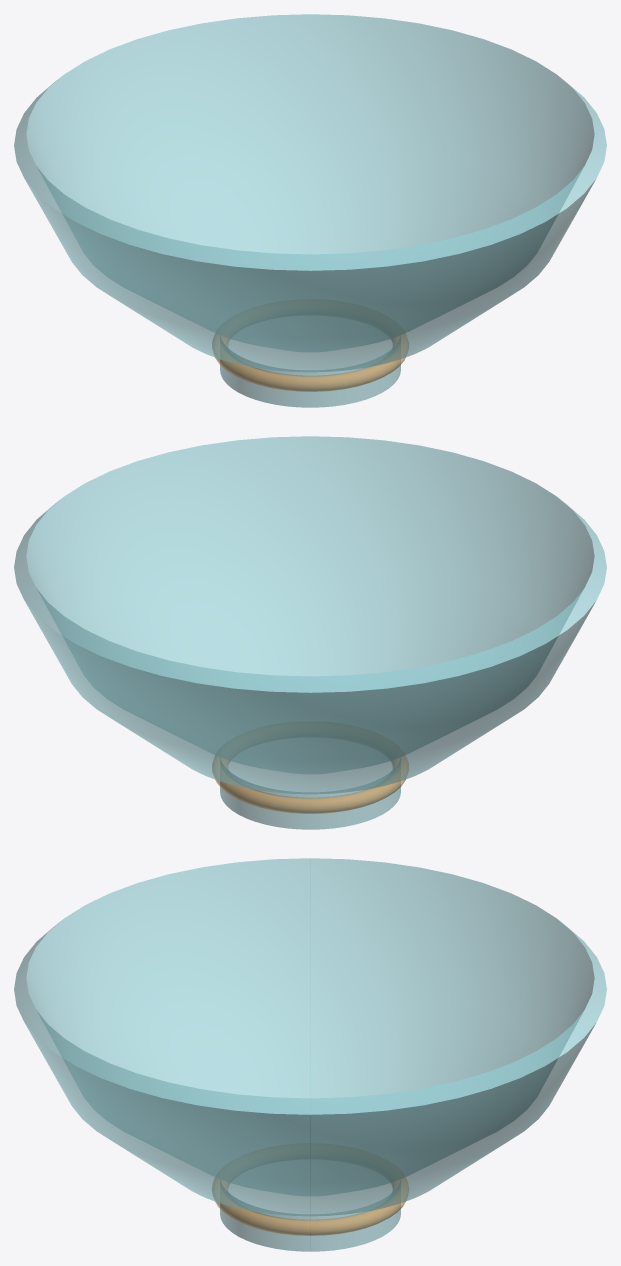
Rendered from glassblowing-studio-and-gallery-sculptural-bowl-3735cf44__29630.glb.
The picture shows the model from 3 angles, top to bottom: view 1: azimuth 30°, elevation 25°; view 2: azimuth 150°, elevation 25°; view 3: azimuth 270°, elevation 25°; orthographic projection.
Visible parts, largest first — view 1: sculptural-bowl; view 2: sculptural-bowl; view 3: sculptural-bowl.
Part boxes in pixels (x1=…): sculptural-bowl: x1=14, y1=14, x2=606, y2=407; sculptural-bowl: x1=14, y1=436, x2=606, y2=829; sculptural-bowl: x1=14, y1=858, x2=606, y2=1251.
Size of the model in its own units: 0.72 by 0.315 by 0.72.
